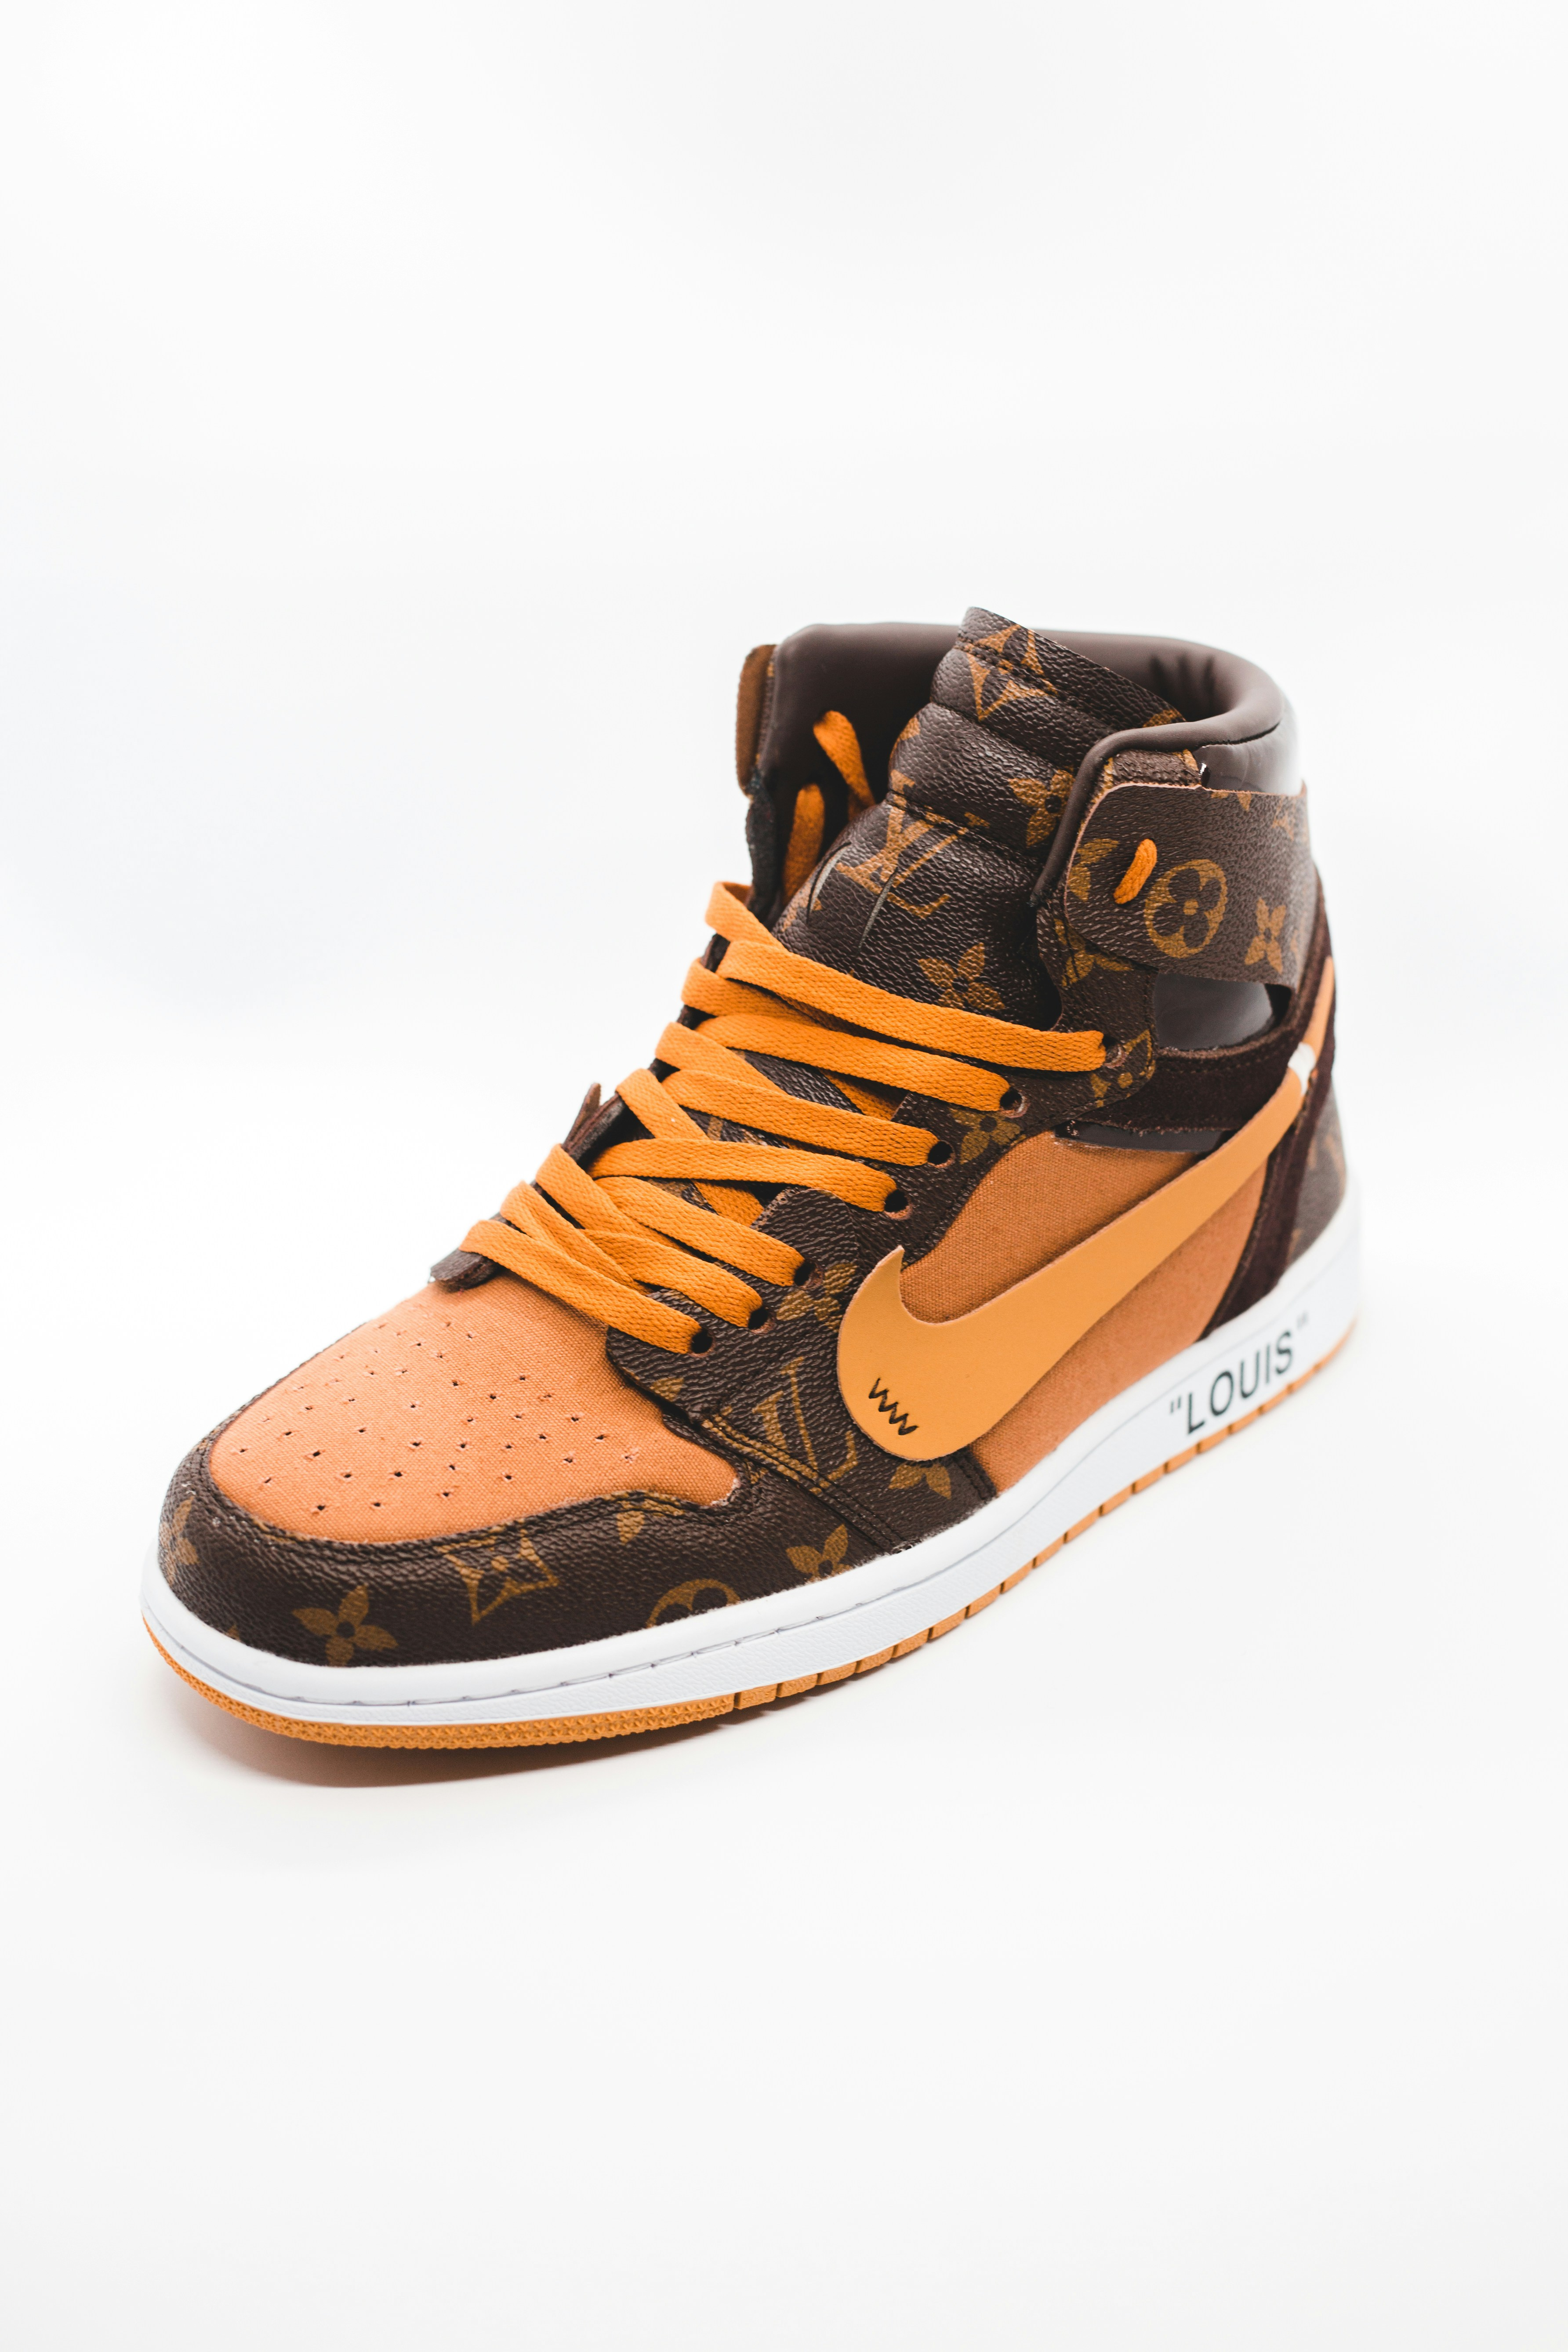Footwear: (115, 549, 1379, 1766)
